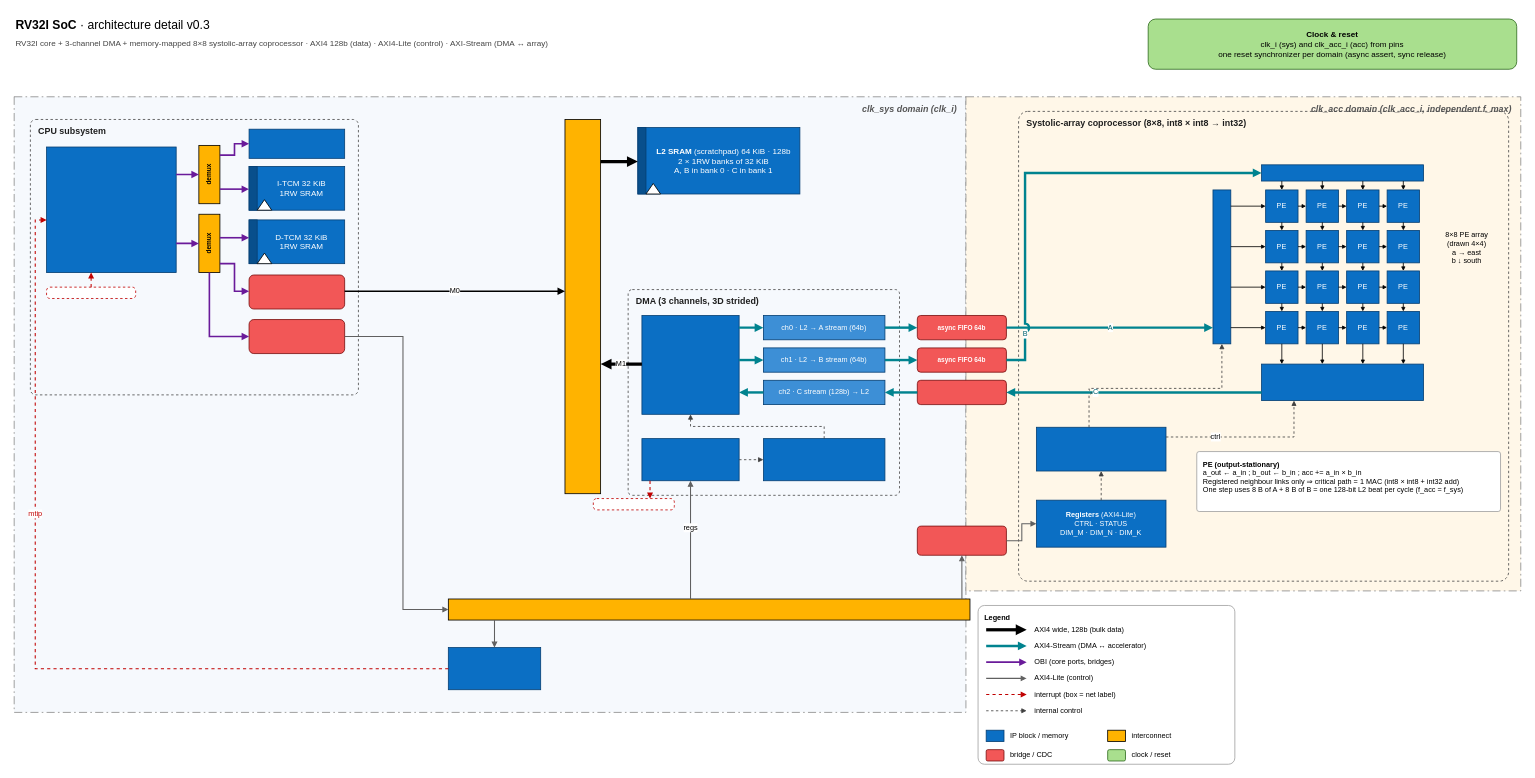
Some shapes in this 1535 by 778 pixel diagram are drawn without their labels. Each missing label, with the centre of its shape:
3D address gen. one per channel: [824,459]
async FIFO 128b: [961,392]
AXI4 interconnect — 128b (2 M × 1 S): [582,306]
AXI4 master 128b INCR bursts split at 4 KiB reads ∥ writes: [690,364]
AXI4-Lite CDC: [961,540]
AXI4-Lite control bus · 32b · address decode (1 M × 3 S): [709,609]
Boot ROM 4 KiB: [296,143]
irq_dma ▶ core meip: [633,504]
irq_dma ▶ meip: [91,292]
OBI → AXI4 bridge (32 → 128 bit, non-posted): [296,291]
OBI → AXI4-Lite bridge (non-posted): [296,336]
Output drain 8×8 int32 tile → C stream: [1342,382]
Registers (AXI4-Lite) 8 per channel: [690,459]
RV32I core 5-stage pipeline + Zicsr, M-mode traps OBI I-port OBI D-port: [111,209]
skew: [1221,266]
skew (diagonal delay): [1342,172]
Tile sequencer (M/8)·(N/8) tiles, K steps each stalls while a FIFO is empty: [1101,448]
Timer mtime · mtimecmp: [494,668]
